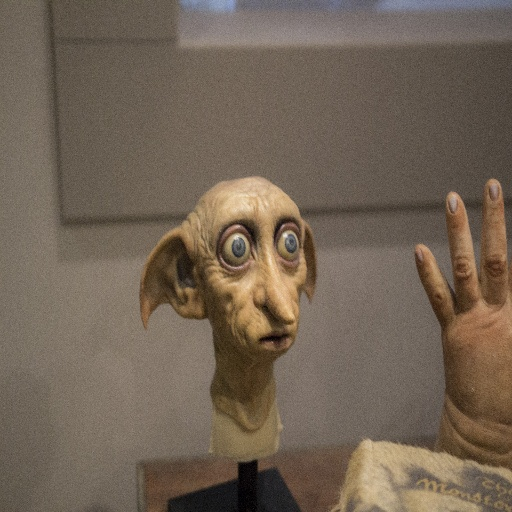hand: (413, 172, 512, 450)
